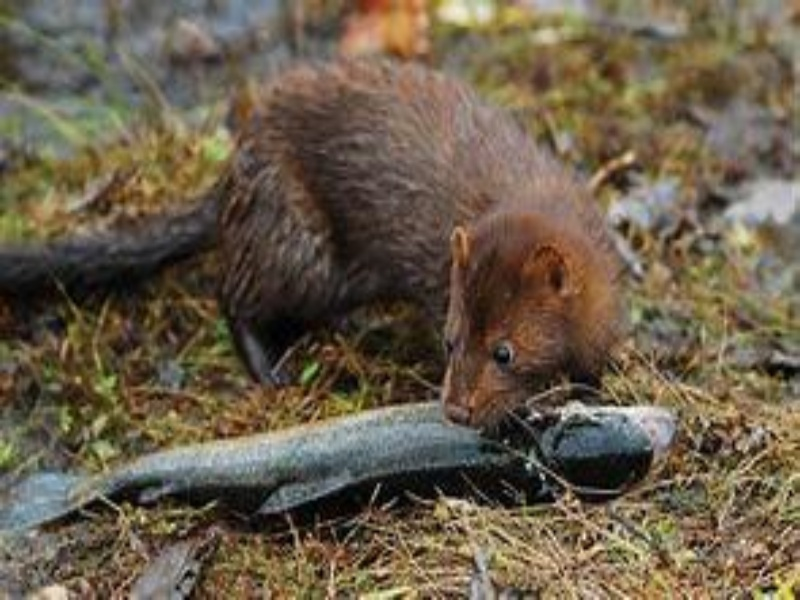minkish: (1, 51, 624, 425)
